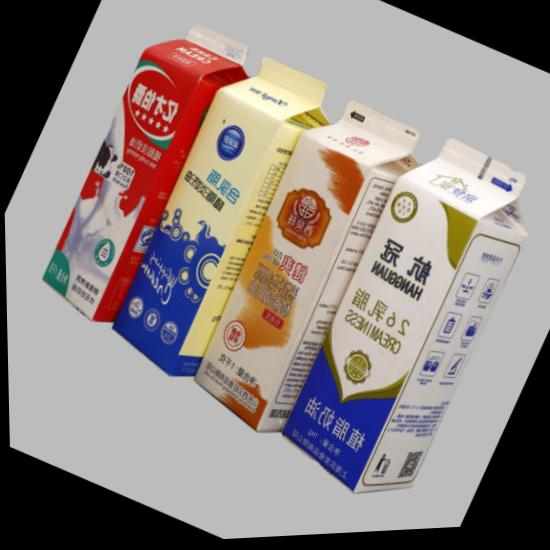cardboard: (284, 127, 525, 488), (92, 31, 323, 375), (3, 1, 247, 325), (180, 78, 400, 430)
